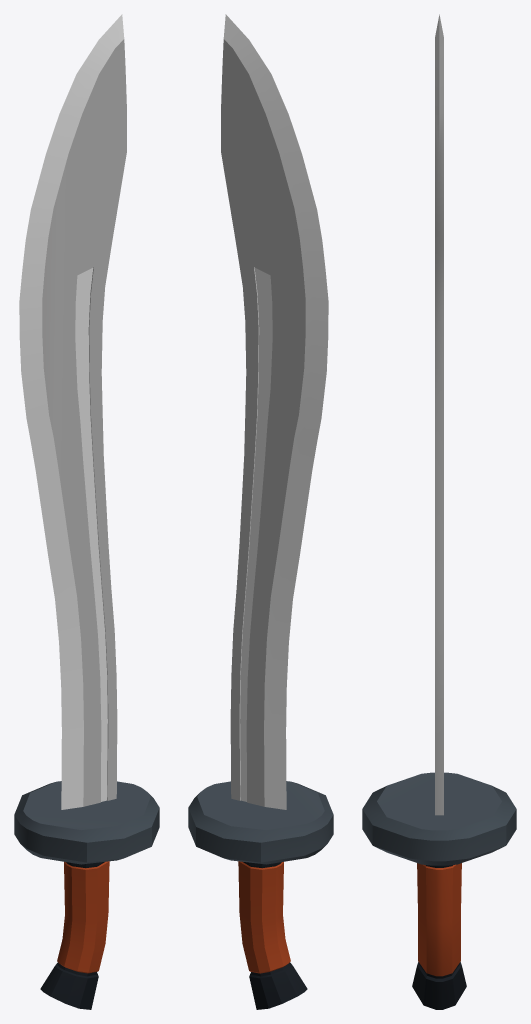
File: SM_Sword04_Dao_3Silver.fbx
The picture shows the model from 3 angles, left to right: view 1: azimuth 30°, elevation 25°; view 2: azimuth 150°, elevation 25°; view 3: azimuth 270°, elevation 25°; orthographic projection. The views are drawn at different scales.
Parts seen in each view (by area): view 1: Cube.386, Cylinder.502, Cylinder.503; view 2: Cube.386, Cylinder.502, Cylinder.503; view 3: Cylinder.502, Cube.386, Cylinder.503.
Part boxes in pixels (left/top/right/bottom): Cube.386: left=19, top=14, right=126, bottom=809; Cylinder.502: left=14, top=781, right=159, bottom=864; Cylinder.503: left=40, top=861, right=109, bottom=1009; Cube.386: left=221, top=14, right=328, bottom=809; Cylinder.502: left=188, top=781, right=333, bottom=864; Cylinder.503: left=238, top=861, right=307, bottom=1009; Cylinder.502: left=362, top=772, right=516, bottom=865; Cube.386: left=435, top=14, right=443, bottom=815; Cylinder.503: left=412, top=863, right=466, bottom=1009.
Size of the model in its own units: 0.1072 by 0.7695 by 0.1062.
